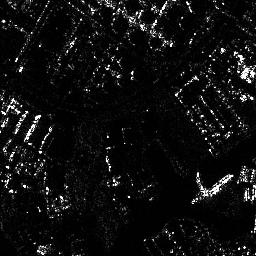ship: (191, 173, 234, 204)
